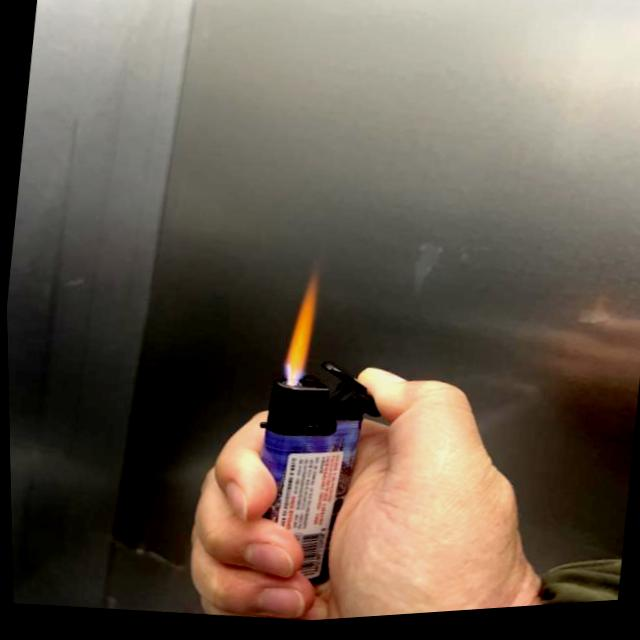Fire: (276, 272, 321, 389)
